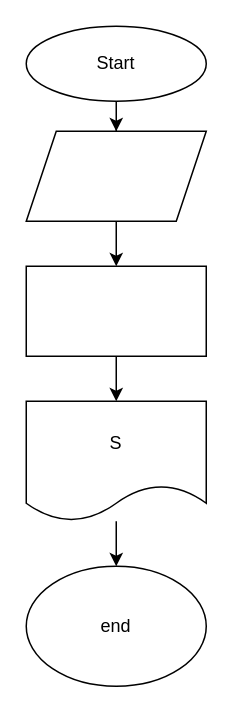
The diagram is 233 pixels wide and 713 high, and some of its shapes have lost their labels. The centre of each missing label's shape, as x and y in pixels:
array [1,2...N] size: point 115,175
S=(array [1,2...N])/size: point 115,310
